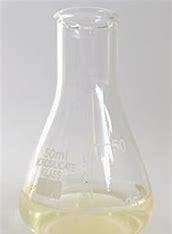Titrarion: (12, 9, 155, 222)
